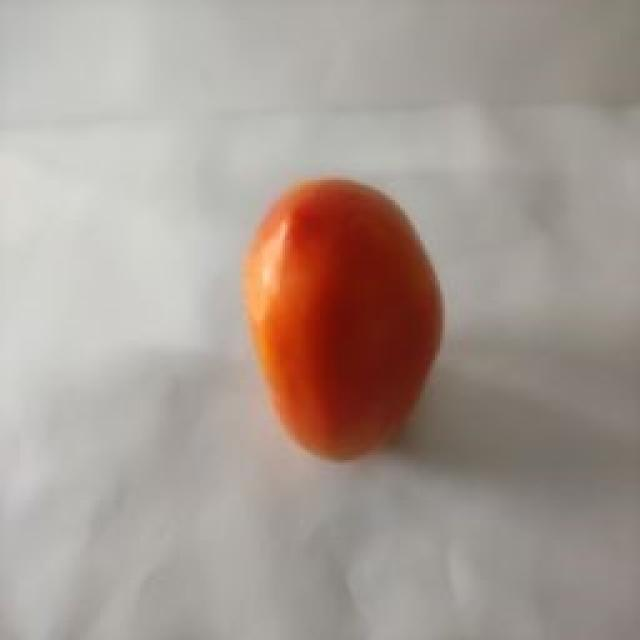Ripe: (243, 175, 450, 470)
